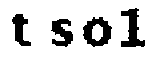1: (118, 4, 147, 52)
o: (81, 14, 112, 48)
s: (48, 16, 75, 50)
t: (4, 10, 33, 52)
